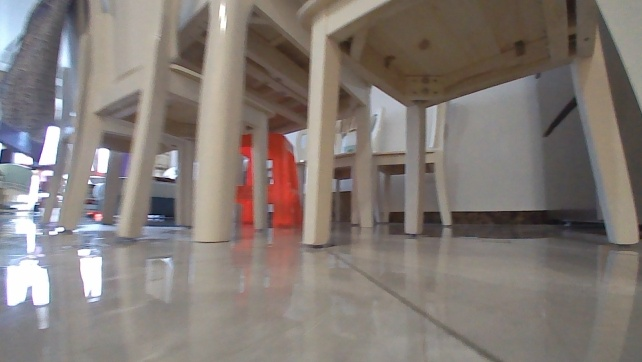dining_table1: (41, 0, 641, 253)
